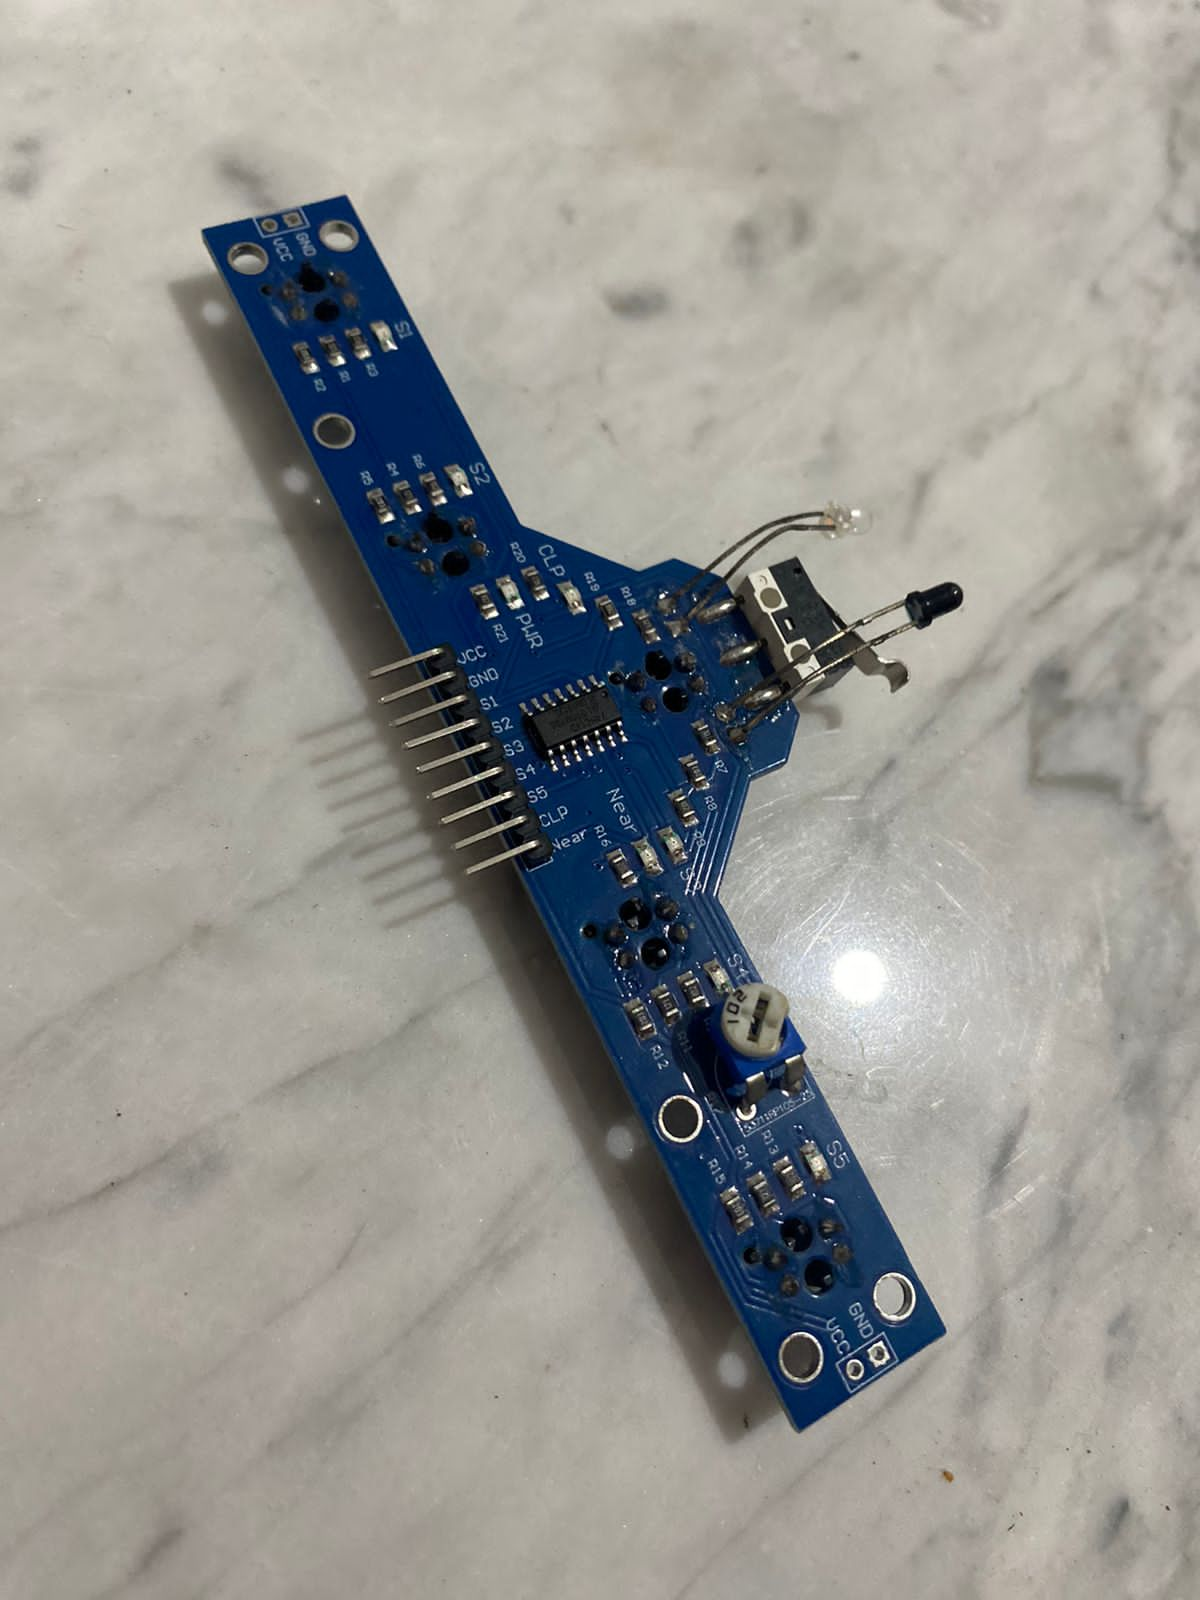Capteur-IR-5 Voies: (95, 193, 995, 1434)
